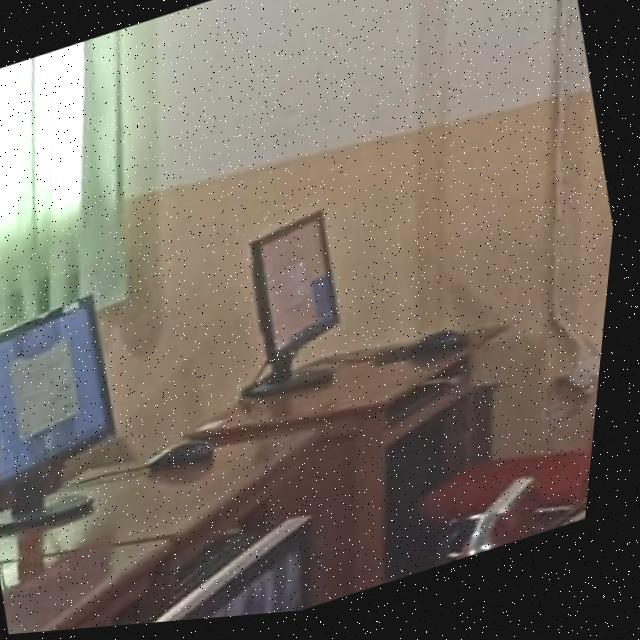onscreen: (0, 298, 123, 483), (257, 217, 345, 362)
